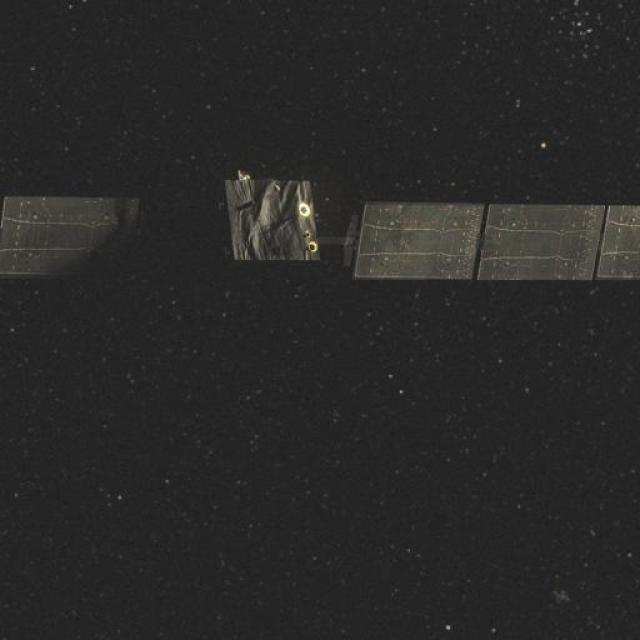smart_1: (11, 170, 640, 302)
